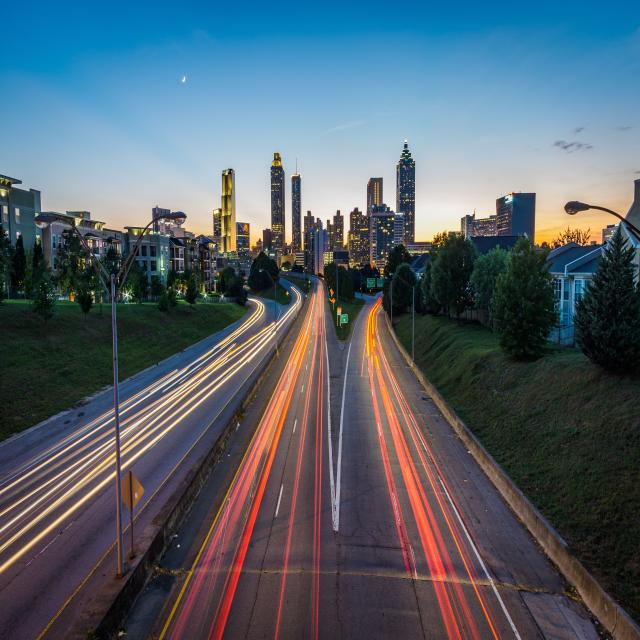Street Light: (32, 213, 188, 574), (565, 198, 640, 266), (258, 268, 292, 348), (389, 272, 414, 360), (375, 274, 394, 323)
